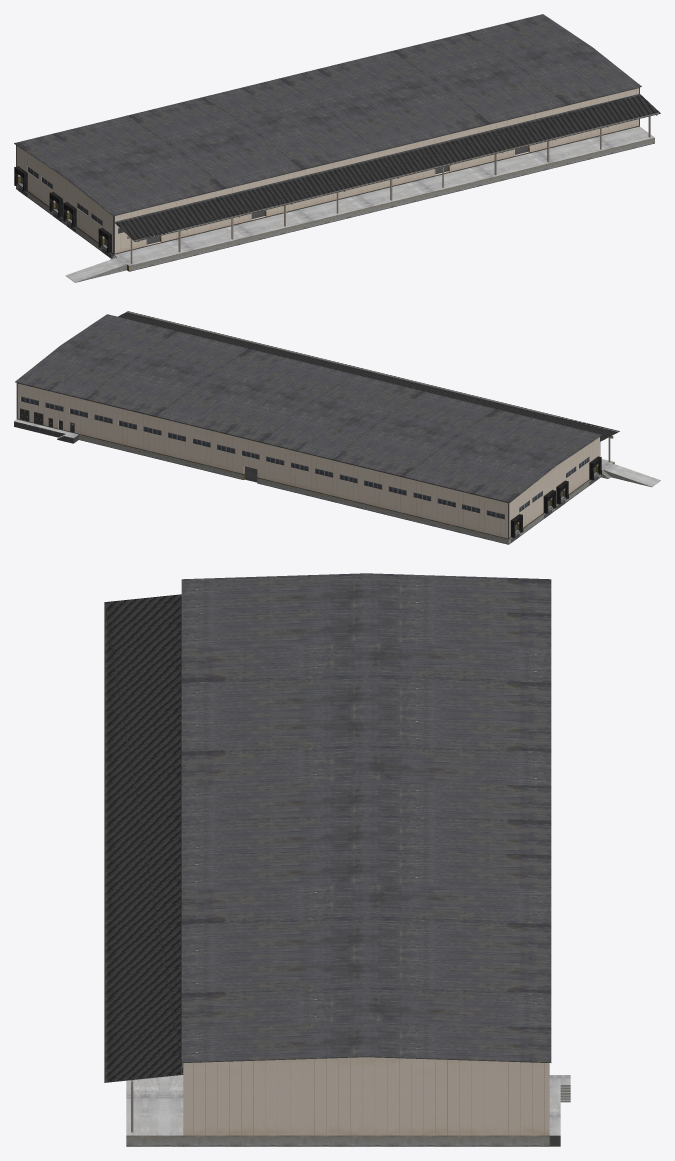
The model's file is plant-building18.glb.
3 renders of one model, top to bottom at view 1: azimuth 30°, elevation 25°; view 2: azimuth 150°, elevation 25°; view 3: azimuth 270°, elevation 25°, orthographic. The views are drawn at different scales.
Visible parts, largest first — view 1: Object8934837; view 2: Object8934837; view 3: Object8934837.
Part boxes in pixels (box(x1,y1,x2,y2)): Object8934837: box(14, 14, 660, 282); Object8934837: box(14, 311, 660, 544); Object8934837: box(104, 573, 570, 1146).
Size of the model in its own units: 125 by 10.13 by 46.65.
1 material, 1 textured.
